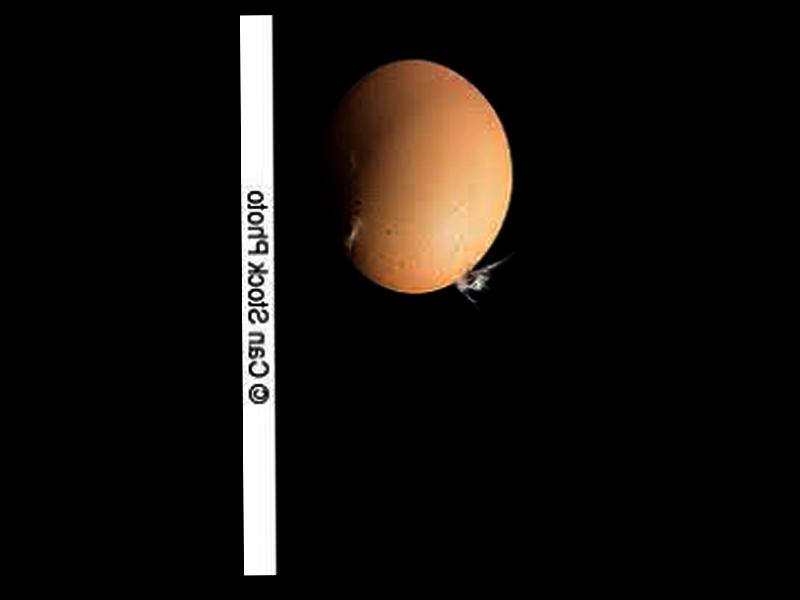Eggs: (316, 57, 512, 294)
